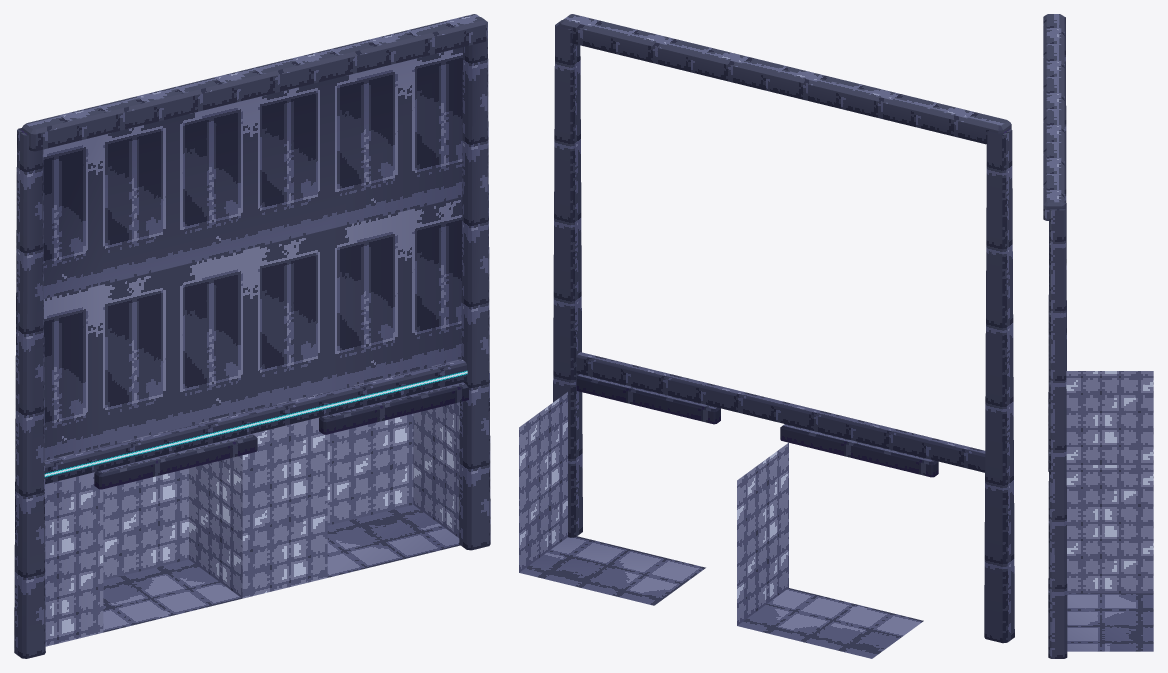
The model's file is cytower.facade__shops.glb.
3 renders of one model, left to right at view 1: azimuth 30°, elevation 25°; view 2: azimuth 150°, elevation 25°; view 3: azimuth 270°, elevation 25°, orthographic. The views are drawn at different scales.
Parts seen in each view (by area): view 1: kit_shell_front, kit_trim, kit_card_windows; view 2: kit_trim, kit_shell_front; view 3: kit_shell_front, kit_trim.
Boxes of the visible parts, x1,y1,x2,y2 form: kit_shell_front: (43, 47, 462, 646); kit_trim: (14, 14, 490, 658); kit_card_windows: (44, 370, 467, 477); kit_trim: (553, 14, 1014, 643); kit_shell_front: (519, 392, 923, 658); kit_shell_front: (1066, 371, 1153, 651); kit_trim: (1043, 14, 1067, 658).
Size of the model in its own units: 12.12 by 13.05 by 2.88.
Materials: 8 (8 with a texture image).
